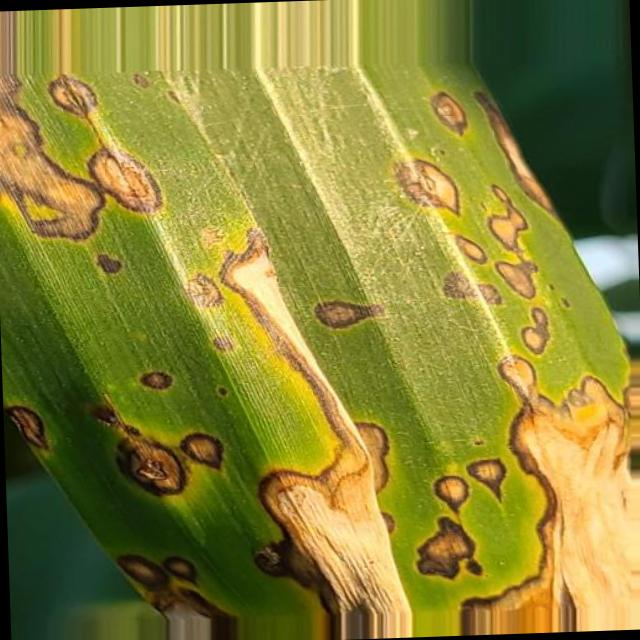Banana_Black_Sigatoka: (87, 344, 640, 640), (366, 81, 602, 341), (0, 39, 181, 274)
